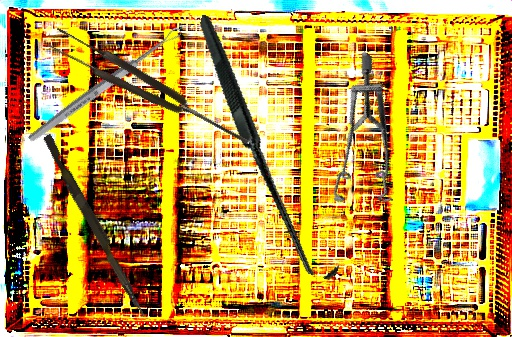Hook Surgical: (139, 14, 398, 282)
Pusher: (38, 133, 153, 319)
Speculum: (283, 50, 454, 228)
Surgical Spoon: (26, 25, 184, 145)
Tissue Forceps: (45, 23, 256, 157)
